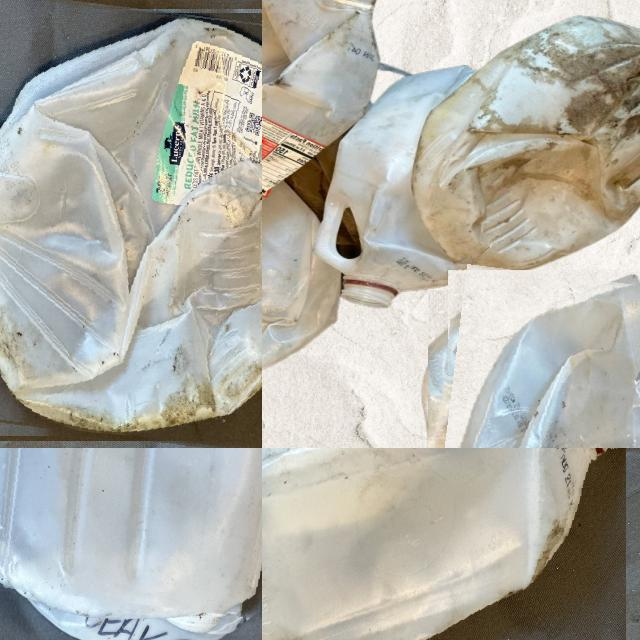milk-jug: (0, 0, 262, 448), (262, 448, 630, 640), (415, 22, 640, 268), (0, 448, 262, 613), (316, 65, 492, 309), (429, 272, 640, 448), (262, 0, 380, 240), (262, 179, 338, 382)
